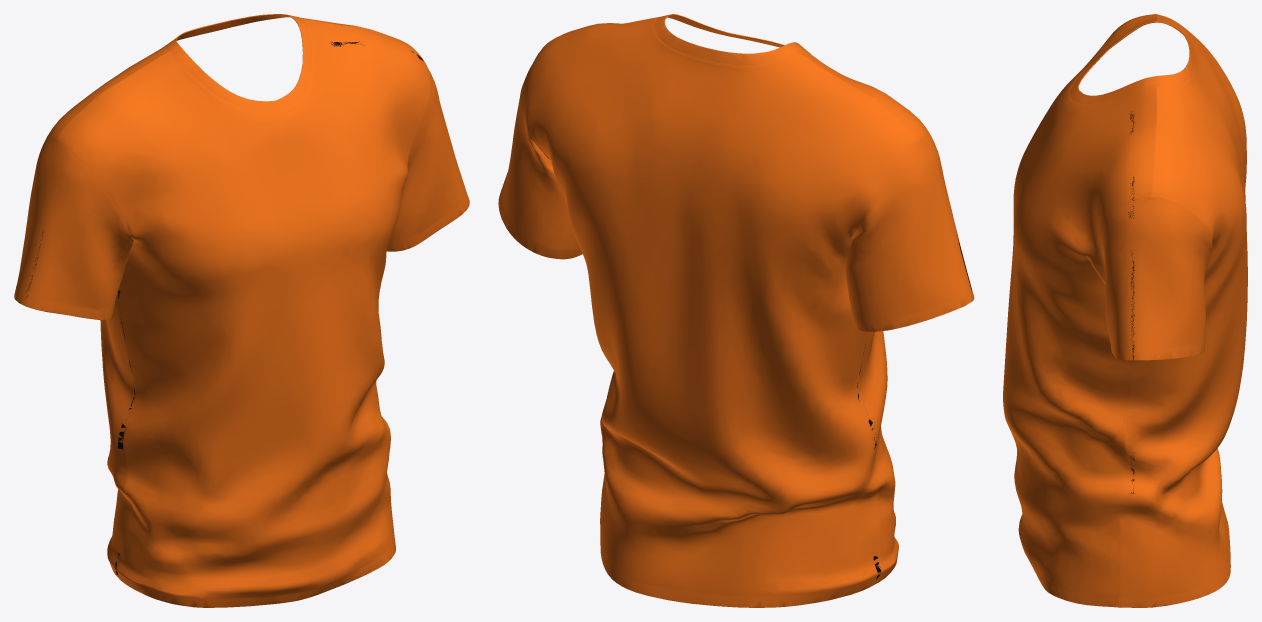
Rendered from design-1761641334562-574124863.glb.
3 renders of one model, left to right at view 1: azimuth 30°, elevation 25°; view 2: azimuth 150°, elevation 25°; view 3: azimuth 270°, elevation 25°, orthographic. The views are drawn at different scales.
Bounding box in the file's own units: 1.1 × 1.23 × 0.5379.
Materials: 2 (1 with a texture image).
